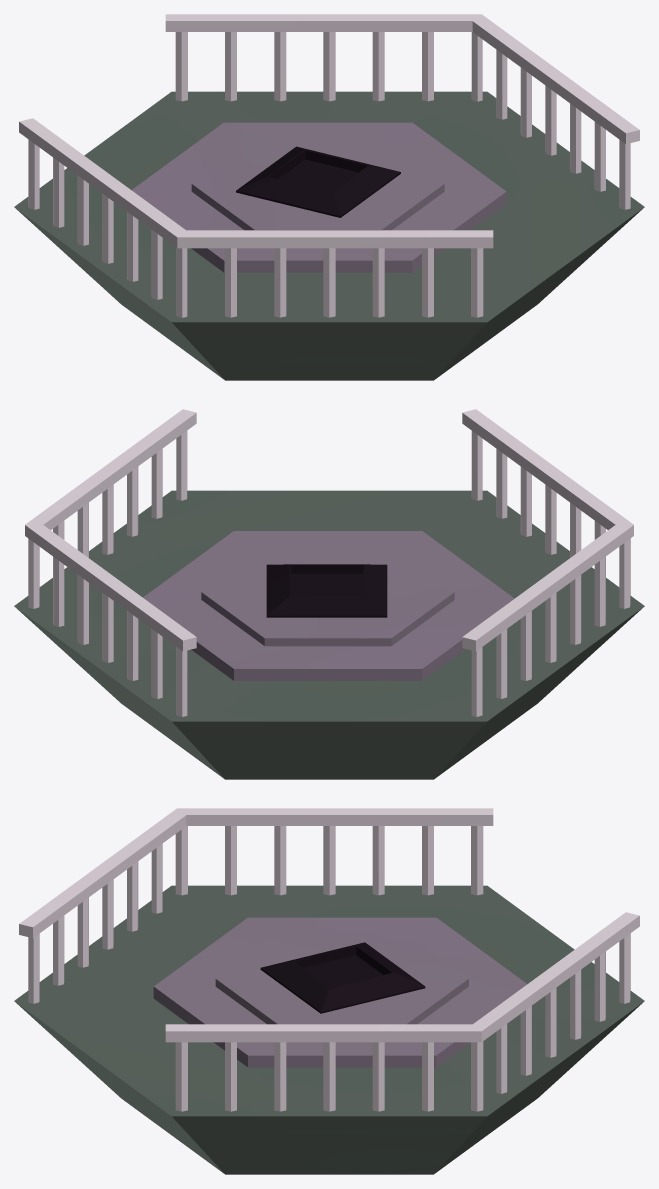
Rendered from lvl1_isle_P_switch2.glb.
The picture shows the model from 3 angles, top to bottom: view 1: azimuth 30°, elevation 25°; view 2: azimuth 150°, elevation 25°; view 3: azimuth 270°, elevation 25°; orthographic projection.
Visible parts, largest first — view 1: lvl1_isle_P_switch2; view 2: lvl1_isle_P_switch2; view 3: lvl1_isle_P_switch2.
Part boxes in pixels (bbox=[...]): lvl1_isle_P_switch2: bbox=[14, 14, 644, 380]; lvl1_isle_P_switch2: bbox=[14, 409, 644, 779]; lvl1_isle_P_switch2: bbox=[14, 808, 644, 1174].
Size of the model in its own units: 6.79 by 2.45 by 7.84.
Materials: 1 (1 with a texture image).
